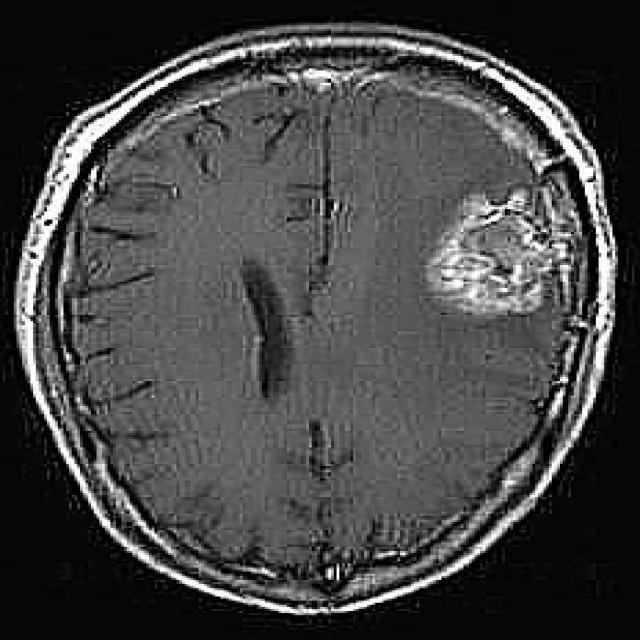Tumor-Cell: (437, 180, 547, 320)
